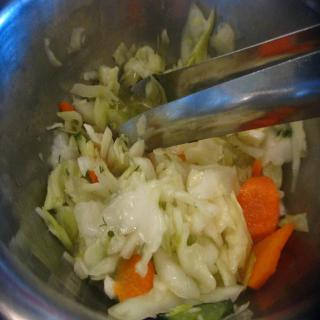Carrot: (242, 223, 294, 289), (233, 174, 279, 243), (112, 253, 154, 304)
Salad: (34, 0, 310, 320)
